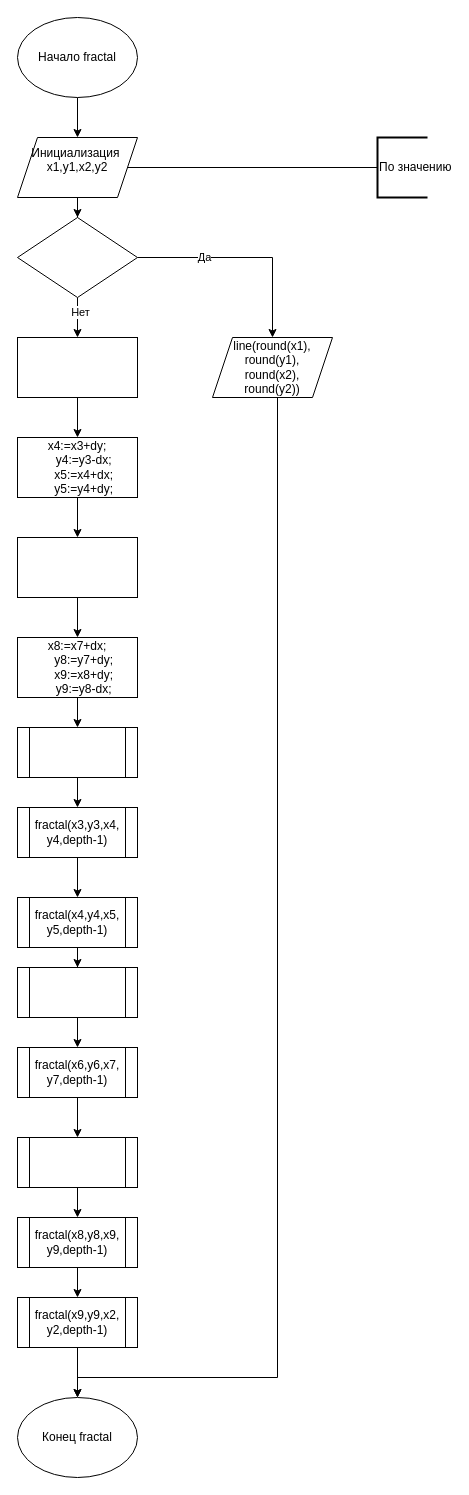
The diagram is 469 pixels wide and 1495 high, and some of its shapes have lost their labels. Each missing label, with the centre of its shape:
depth=0: point 77,257
dx:=(x2-x1)/4; dy:=(y2-y1)/4; x3:=x1+dx; y3:=y1+dy;: point 77,367
fractal(x1,y1,x3, y3,depth-1): point 77,752
fractal(x5,y5,x6, y6,depth-1): point 77,992
fractal(x7,y7,x8, y8,depth-1): point 77,1162
x6:=x5-dy; y6:=y5+dx; x7:=x6-dy; y7:=y6+dx;: point 77,567
